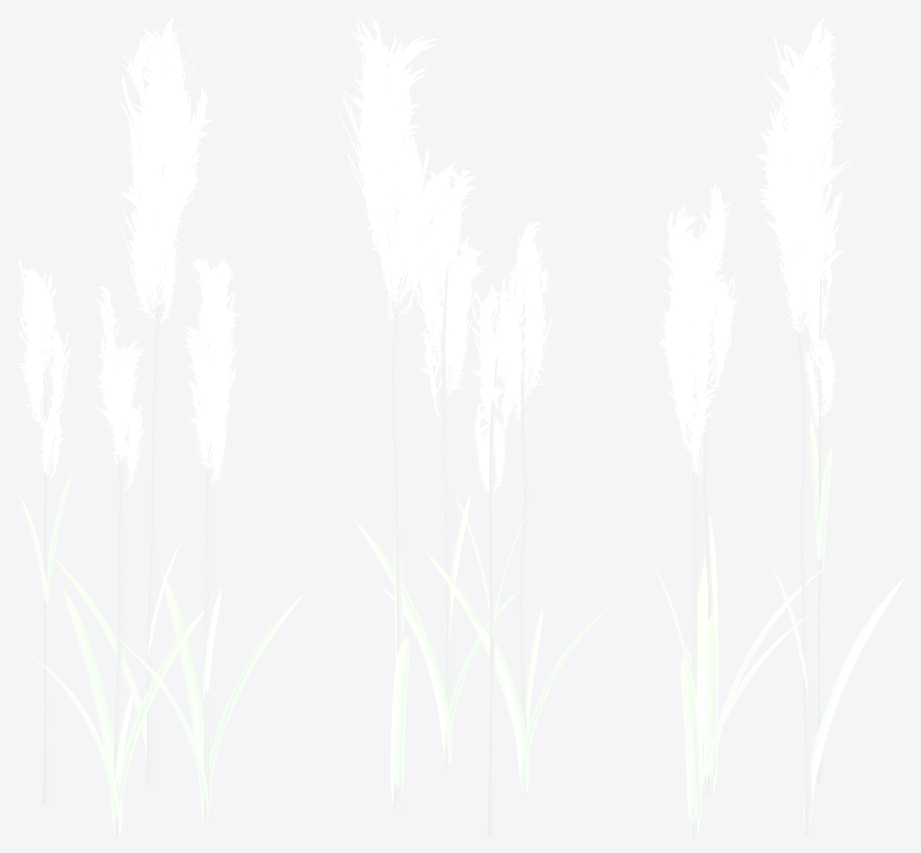
3 renders of one model, left to right at view 1: azimuth 30°, elevation 25°; view 2: azimuth 150°, elevation 25°; view 3: azimuth 270°, elevation 25°, orthographic. The views are drawn at different scales.
Visible parts, largest first — view 1: SM_BM_LongGrass_A_LOD0; view 2: SM_BM_LongGrass_A_LOD0; view 3: SM_BM_LongGrass_A_LOD0.
Part boxes in pixels (x1,y1,x2,y2): SM_BM_LongGrass_A_LOD0: [17, 17, 304, 838]; SM_BM_LongGrass_A_LOD0: [337, 17, 620, 838]; SM_BM_LongGrass_A_LOD0: [653, 15, 905, 838].
Bounding box in the file's own units: 0.7153 × 1.92 × 0.5326.
1 material, 1 textured.
